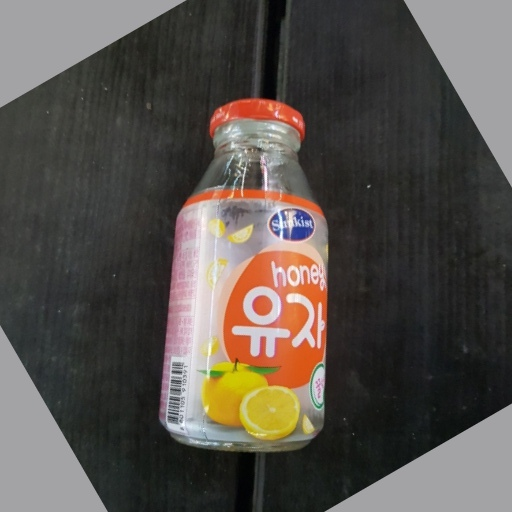Glass_4: (146, 96, 335, 453)
